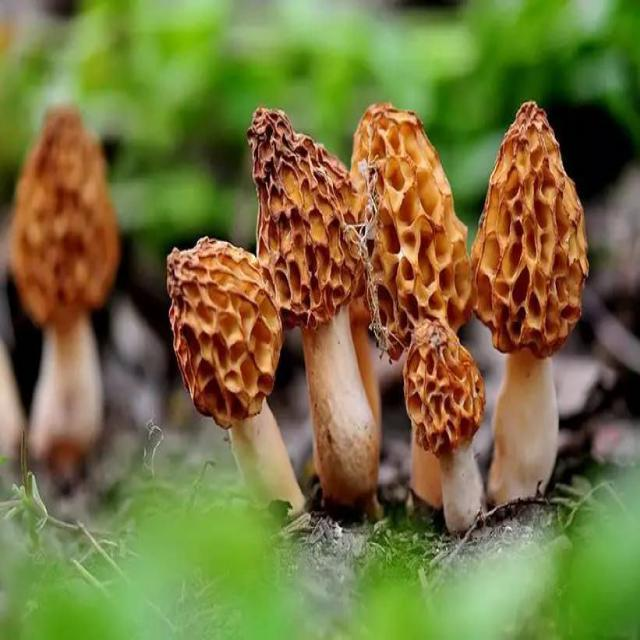Morchella esculenta: (354, 102, 485, 541), (250, 105, 386, 500), (473, 98, 587, 505), (169, 238, 305, 513), (11, 104, 115, 456)
